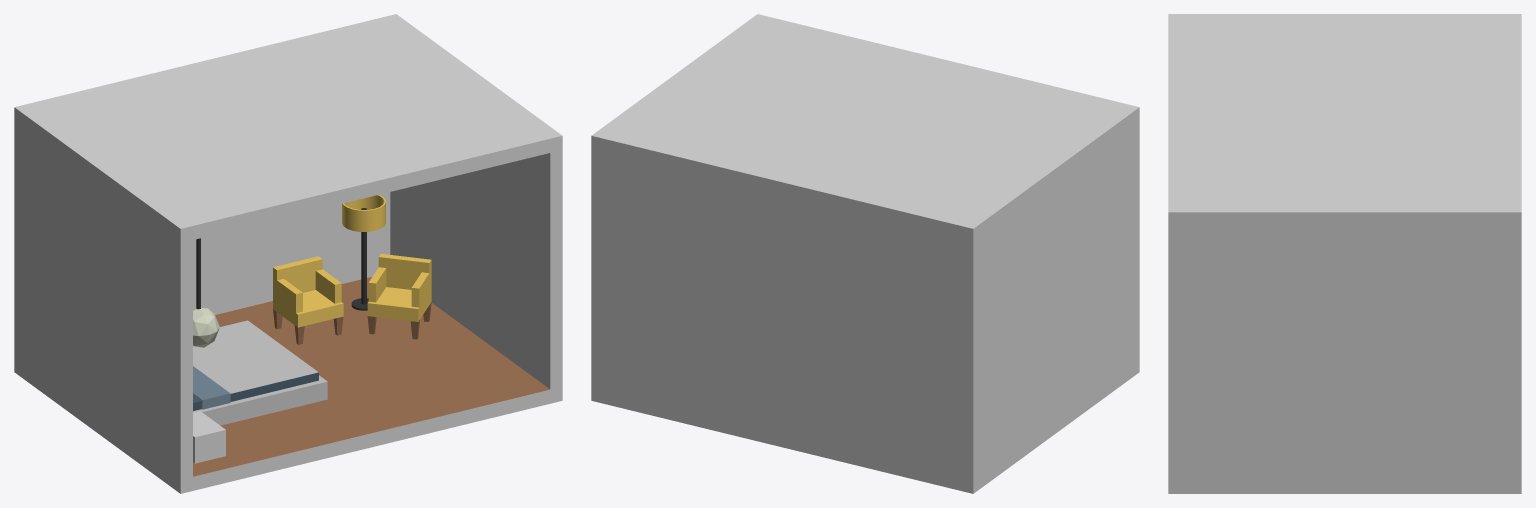
Rendered from Bedroom.glb.
3 views of the same model, side by side, from view 1: azimuth 30°, elevation 25°; view 2: azimuth 150°, elevation 25°; view 3: azimuth 270°, elevation 25° (orthographic). The views are drawn at different scales.
Visible parts, largest first — view 1: Box001, Box006; view 2: Box001; view 3: Box001.
Part boxes in pixels (x1,y1,x2,y2): Box001: [14, 14, 562, 493]; Box006: [193, 195, 431, 463]; Box001: [591, 14, 1139, 493]; Box001: [1168, 14, 1521, 493].
Size of the model in its own units: 94.62 by 62.73 by 71.35.
